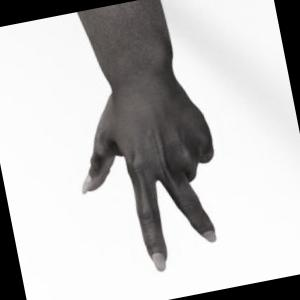scissors: (77, 0, 216, 271)
